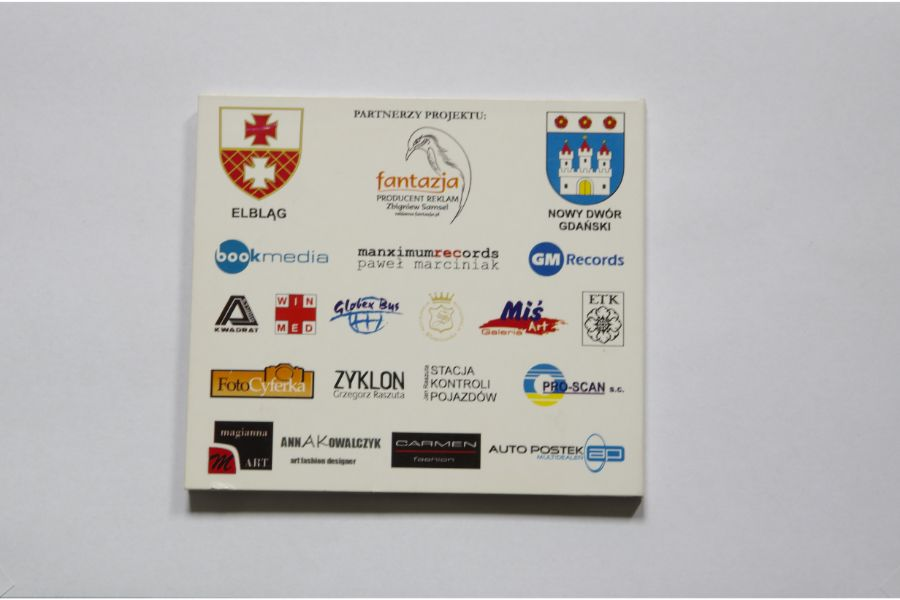album: (184, 91, 647, 499)
